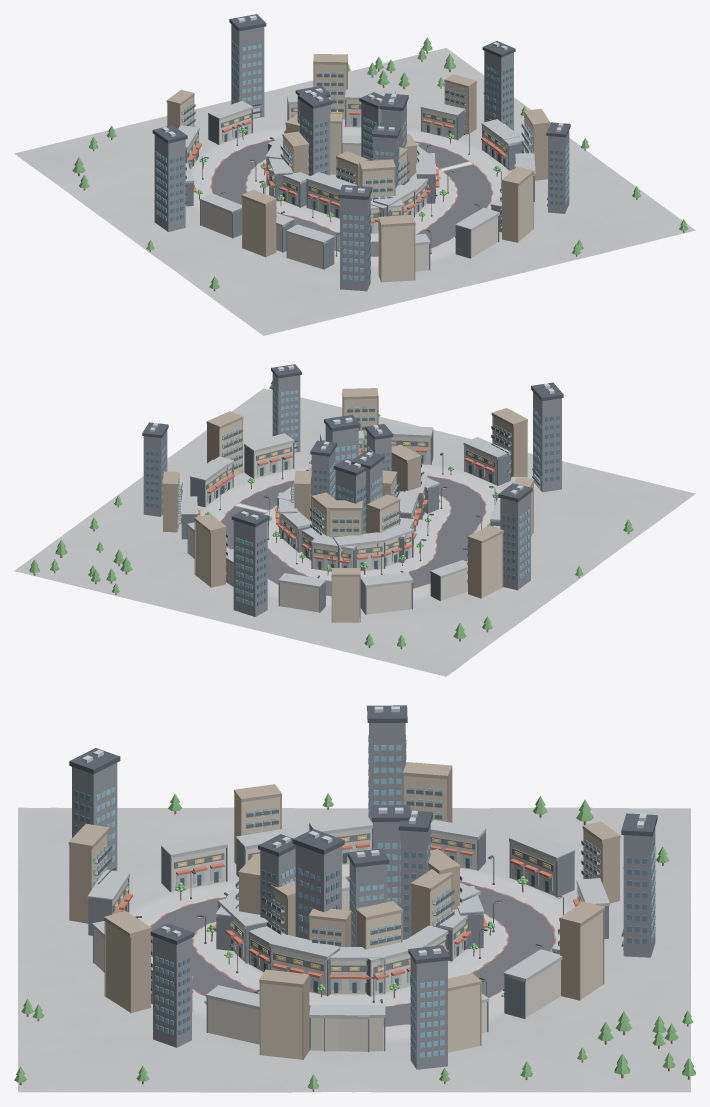
Rendered from kart_city.glb.
3 views of the same model, one above another, from view 1: azimuth 30°, elevation 25°; view 2: azimuth 150°, elevation 25°; view 3: azimuth 270°, elevation 25° (orthographic). The views are drawn at different scales.
Visible parts, largest first — view 1: kart_city_terrain, kart_city_track, prop4_100, prop4_98, prop4_96, prop3_88, prop4_94, prop3_90, prop4_99, prop3_86, prop4_102, prop2_70 (+26 smaller); view 2: kart_city_terrain, kart_city_track, prop4_96, prop4_100, prop4_98, prop3_84, prop3_80, prop4_102, prop4_94, prop2_58, prop3_88, prop2_74 (+25 smaller); view 3: kart_city_terrain, kart_city_track, prop4_96, prop4_94, prop4_102, prop3_92, prop3_90, prop4_103, prop3_80, prop4_100, prop4_98, prop2_58 (+34 smaller).
Part boxes in pixels (x1,y1,x2,y2): kart_city_terrain: (14,37,695,335); kart_city_track: (210,136,493,256); prop4_100: (338,185,372,291); prop4_98: (152,125,187,231); prop4_96: (229,14,266,118); prop3_88: (378,214,415,282); prop4_94: (482,41,515,130); prop3_90: (500,166,534,242); prop4_99: (298,90,332,175); prop3_86: (241,189,276,257); prop4_102: (546,122,570,213); prop2_70: (455,207,499,258); kart_city_terrain: (14,381,695,676); kart_city_track: (220,475,486,596); prop4_96: (231,508,269,616); prop4_100: (531,382,563,492); prop4_98: (498,483,532,590); prop3_84: (467,525,503,598); prop3_80: (194,514,227,587); prop4_102: (271,364,301,452); prop4_94: (142,422,168,516); prop2_58: (360,572,413,614); prop3_88: (491,408,527,479); prop2_74: (244,433,294,478); kart_city_terrain: (14,793,695,1092); kart_city_track: (150,876,556,1026); prop4_96: (621,813,657,957); prop4_94: (408,945,449,1069); prop4_102: (150,923,194,1047); prop3_92: (259,969,309,1059); prop3_90: (104,911,152,1013); prop4_103: (292,829,344,939); prop3_80: (558,901,604,1000); prop4_100: (69,748,120,870); prop4_98: (367,705,407,822); prop2_58: (509,830,575,896).
Size of the model in its own units: 137 by 29.52 by 138.
